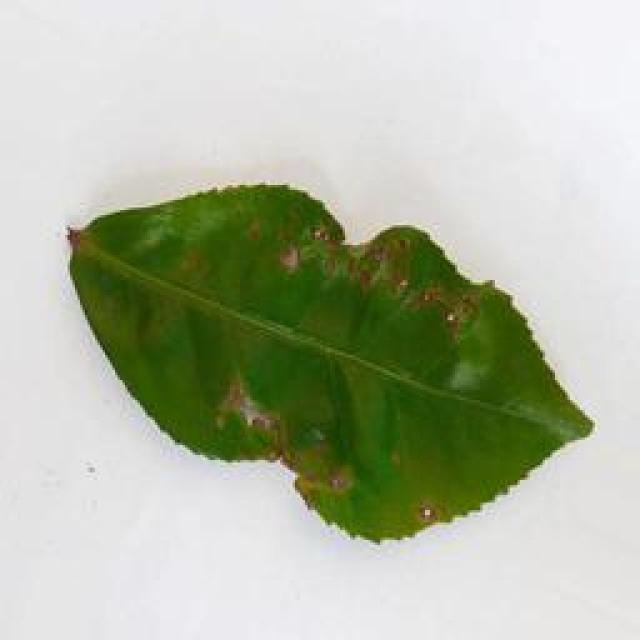Helopeltis: (56, 182, 597, 542)
